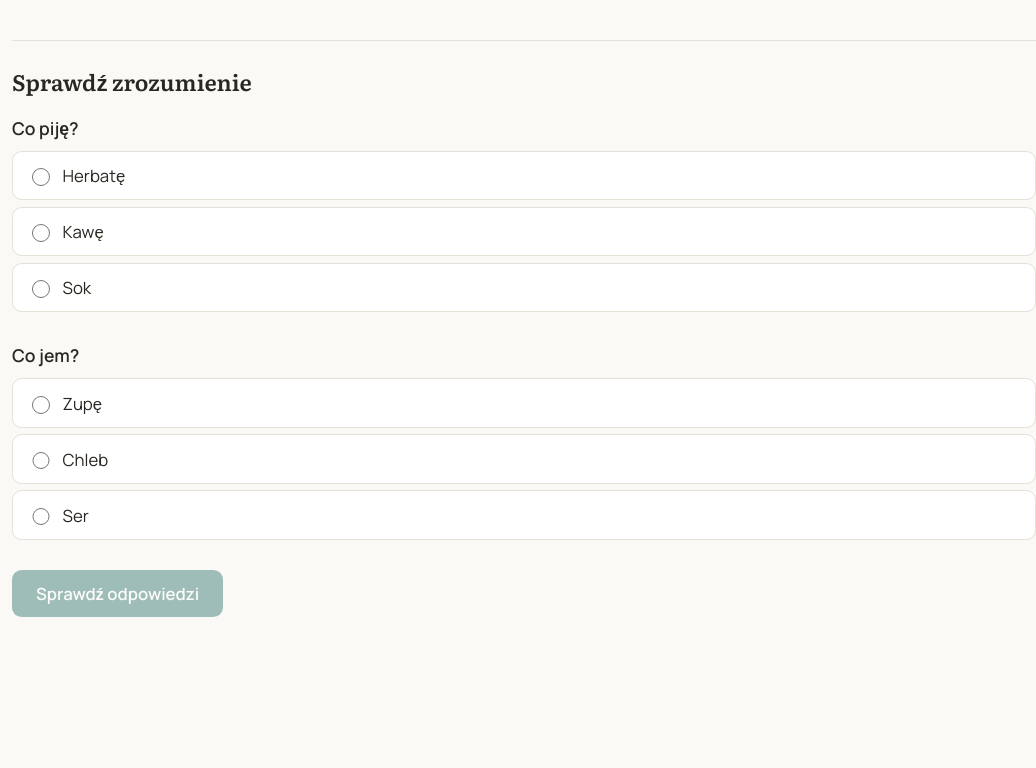
Quiz › disables submit until every question is answered
Expected: the button "Sprawdź odpowiedzi" is disabled, top-left (12, 570), bottom-right (223, 617)
Click the radio button labelled "Herbatę" at (41, 177), box top-left (32, 168), bottom-right (50, 186)
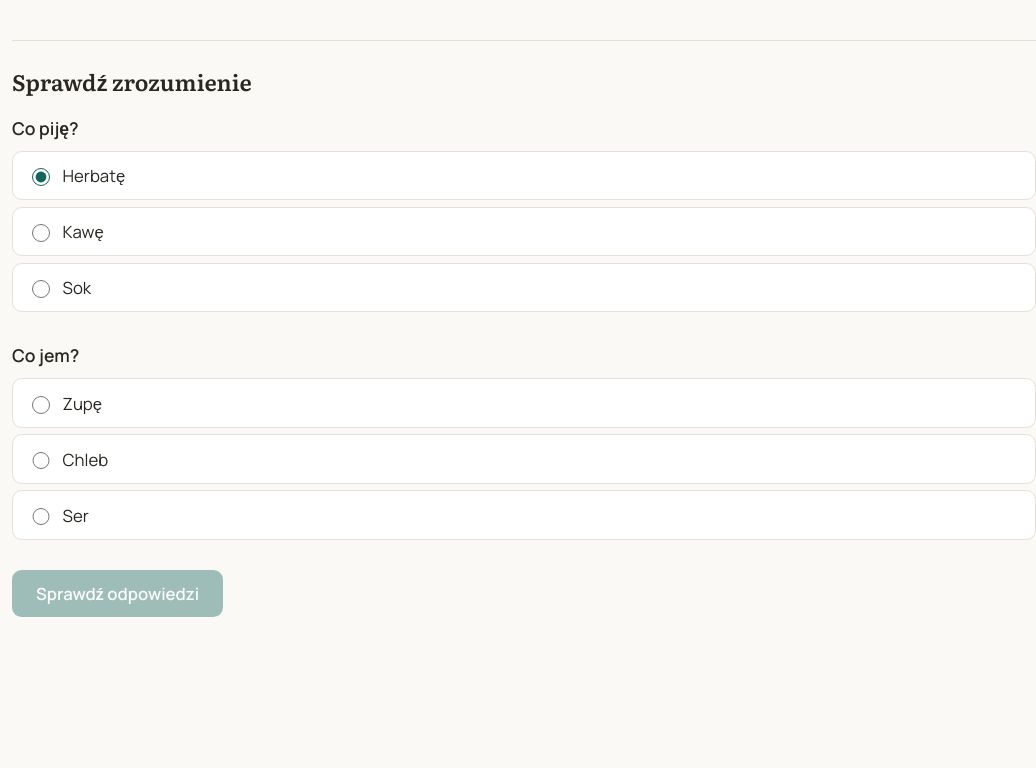
Expected: the button "Sprawdź odpowiedzi" is disabled, top-left (12, 570), bottom-right (223, 617)
Click the radio button labelled "Chleb" at (41, 461), box top-left (32, 452), bottom-right (50, 470)
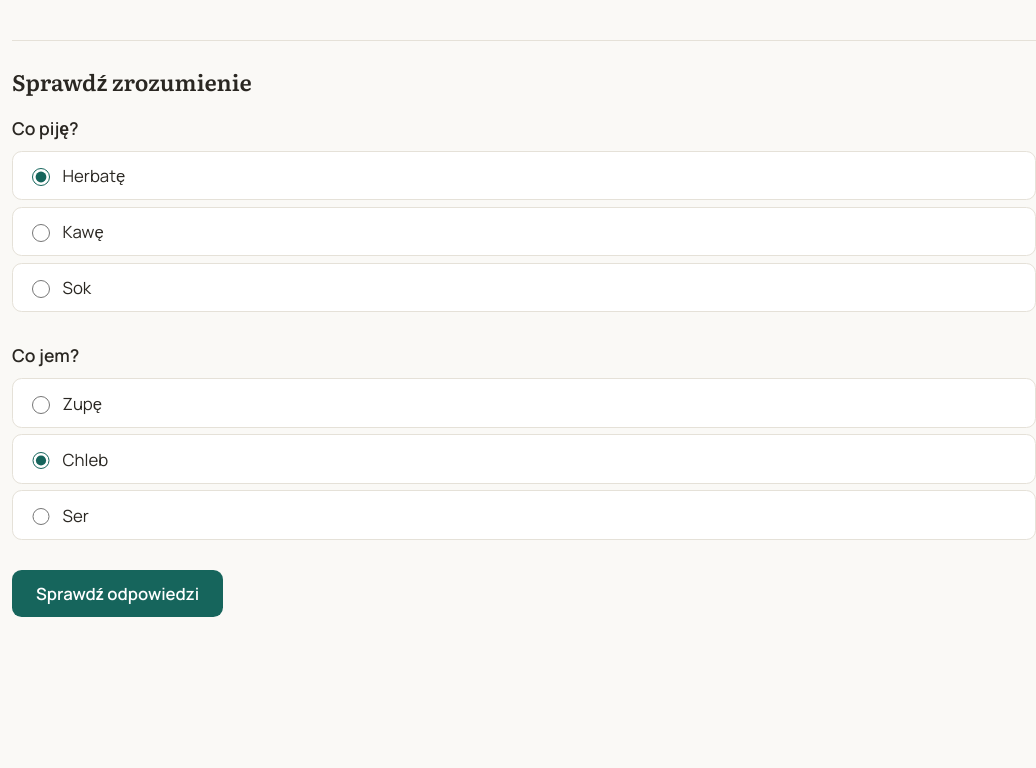
Now the button "Sprawdź odpowiedzi" is enabled, box top-left (12, 570), bottom-right (223, 617)
